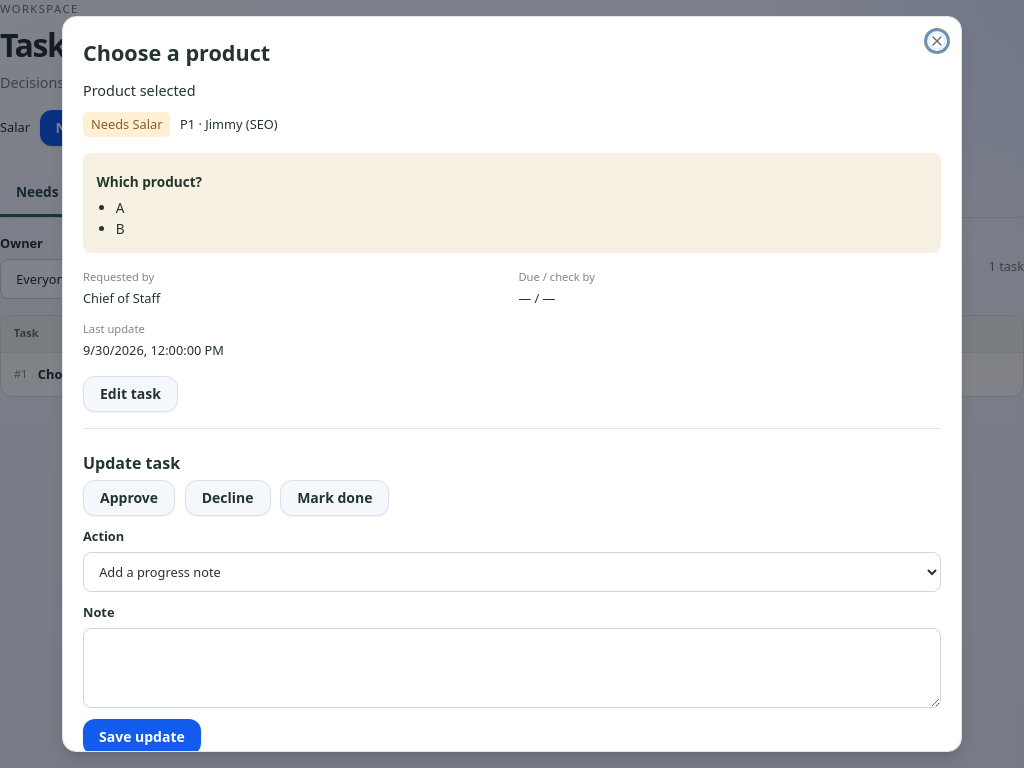
sends a versioned decision and displays the saved answer
The width and height of the screenshot is (1024, 768).
Select "Answer the question" in the dropdown labelled "Action" at (512, 572), box [83,552,941,592]
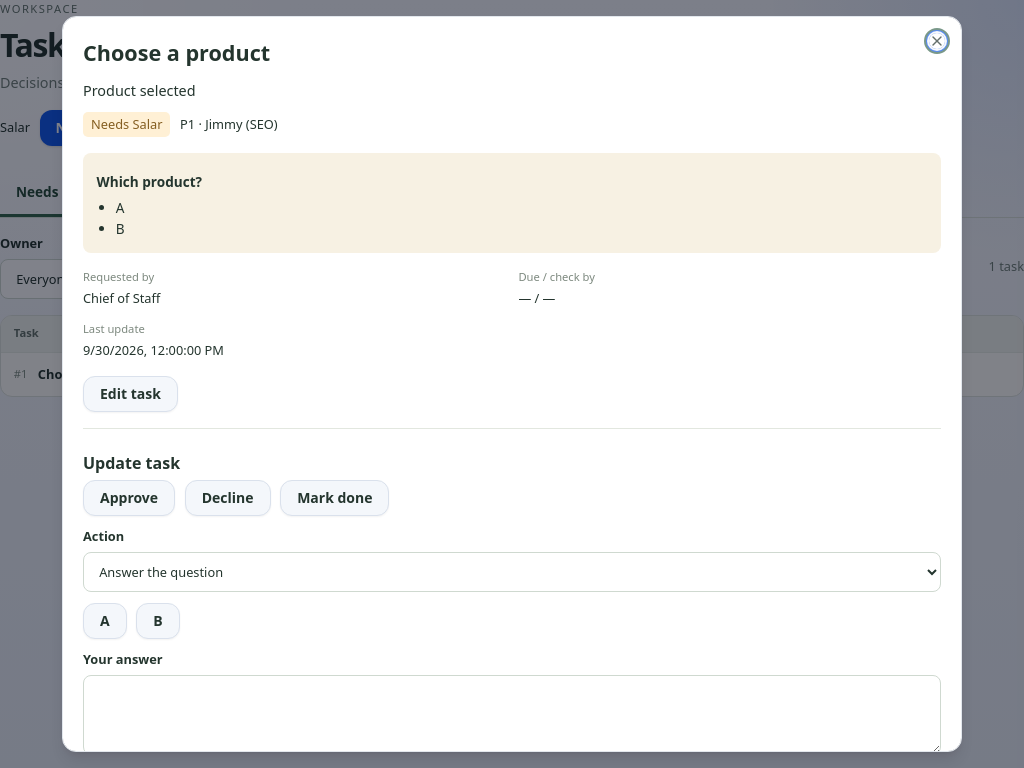
Click the button "A" at (105, 621), box [83,603,127,639]
(page scrolled)
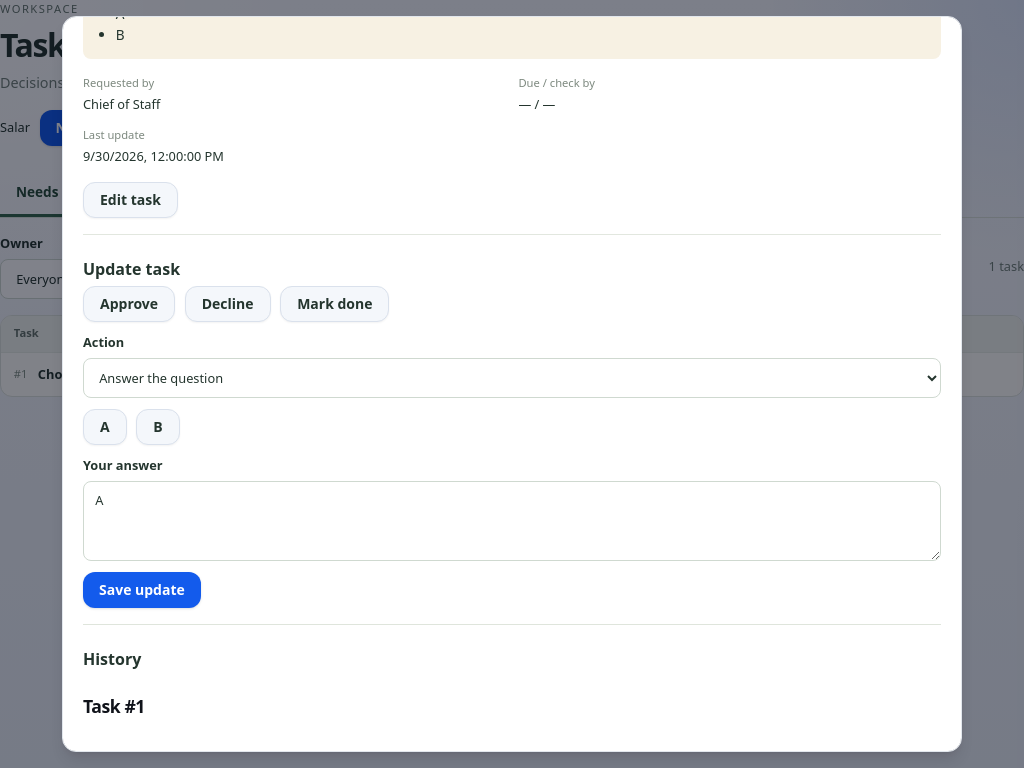
Click the button "Save update" at (142, 590), box [83,572,201,608]
(page scrolled)
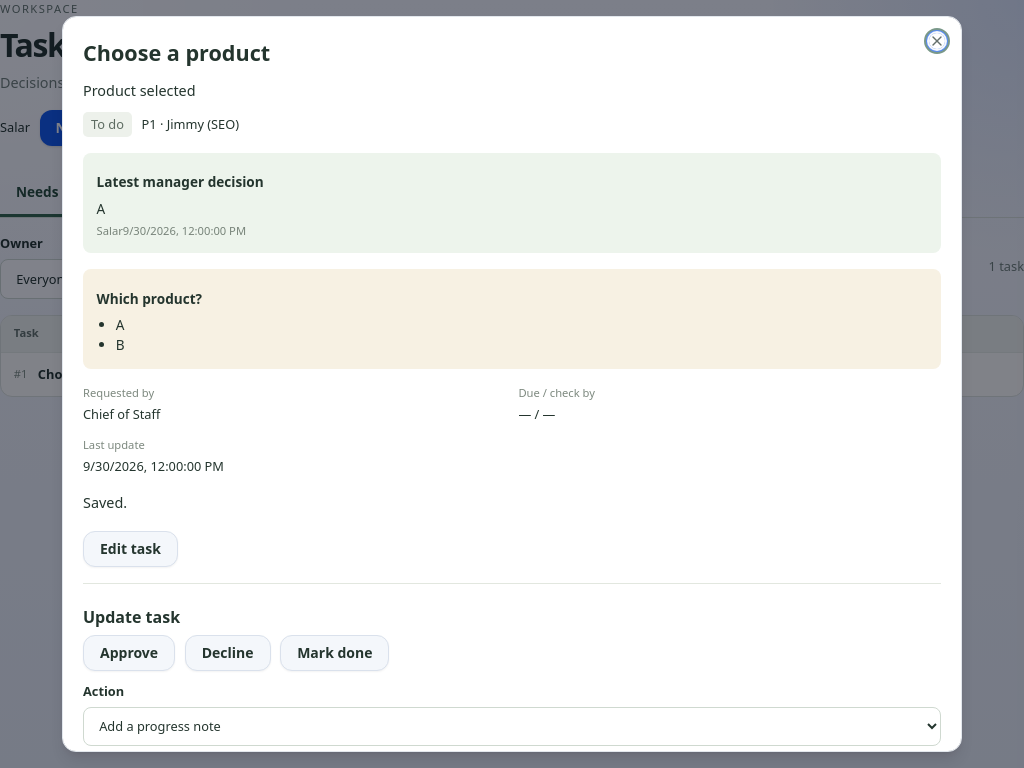
Now the heading "Latest manager decision" is shown, box [97,172,264,192]
